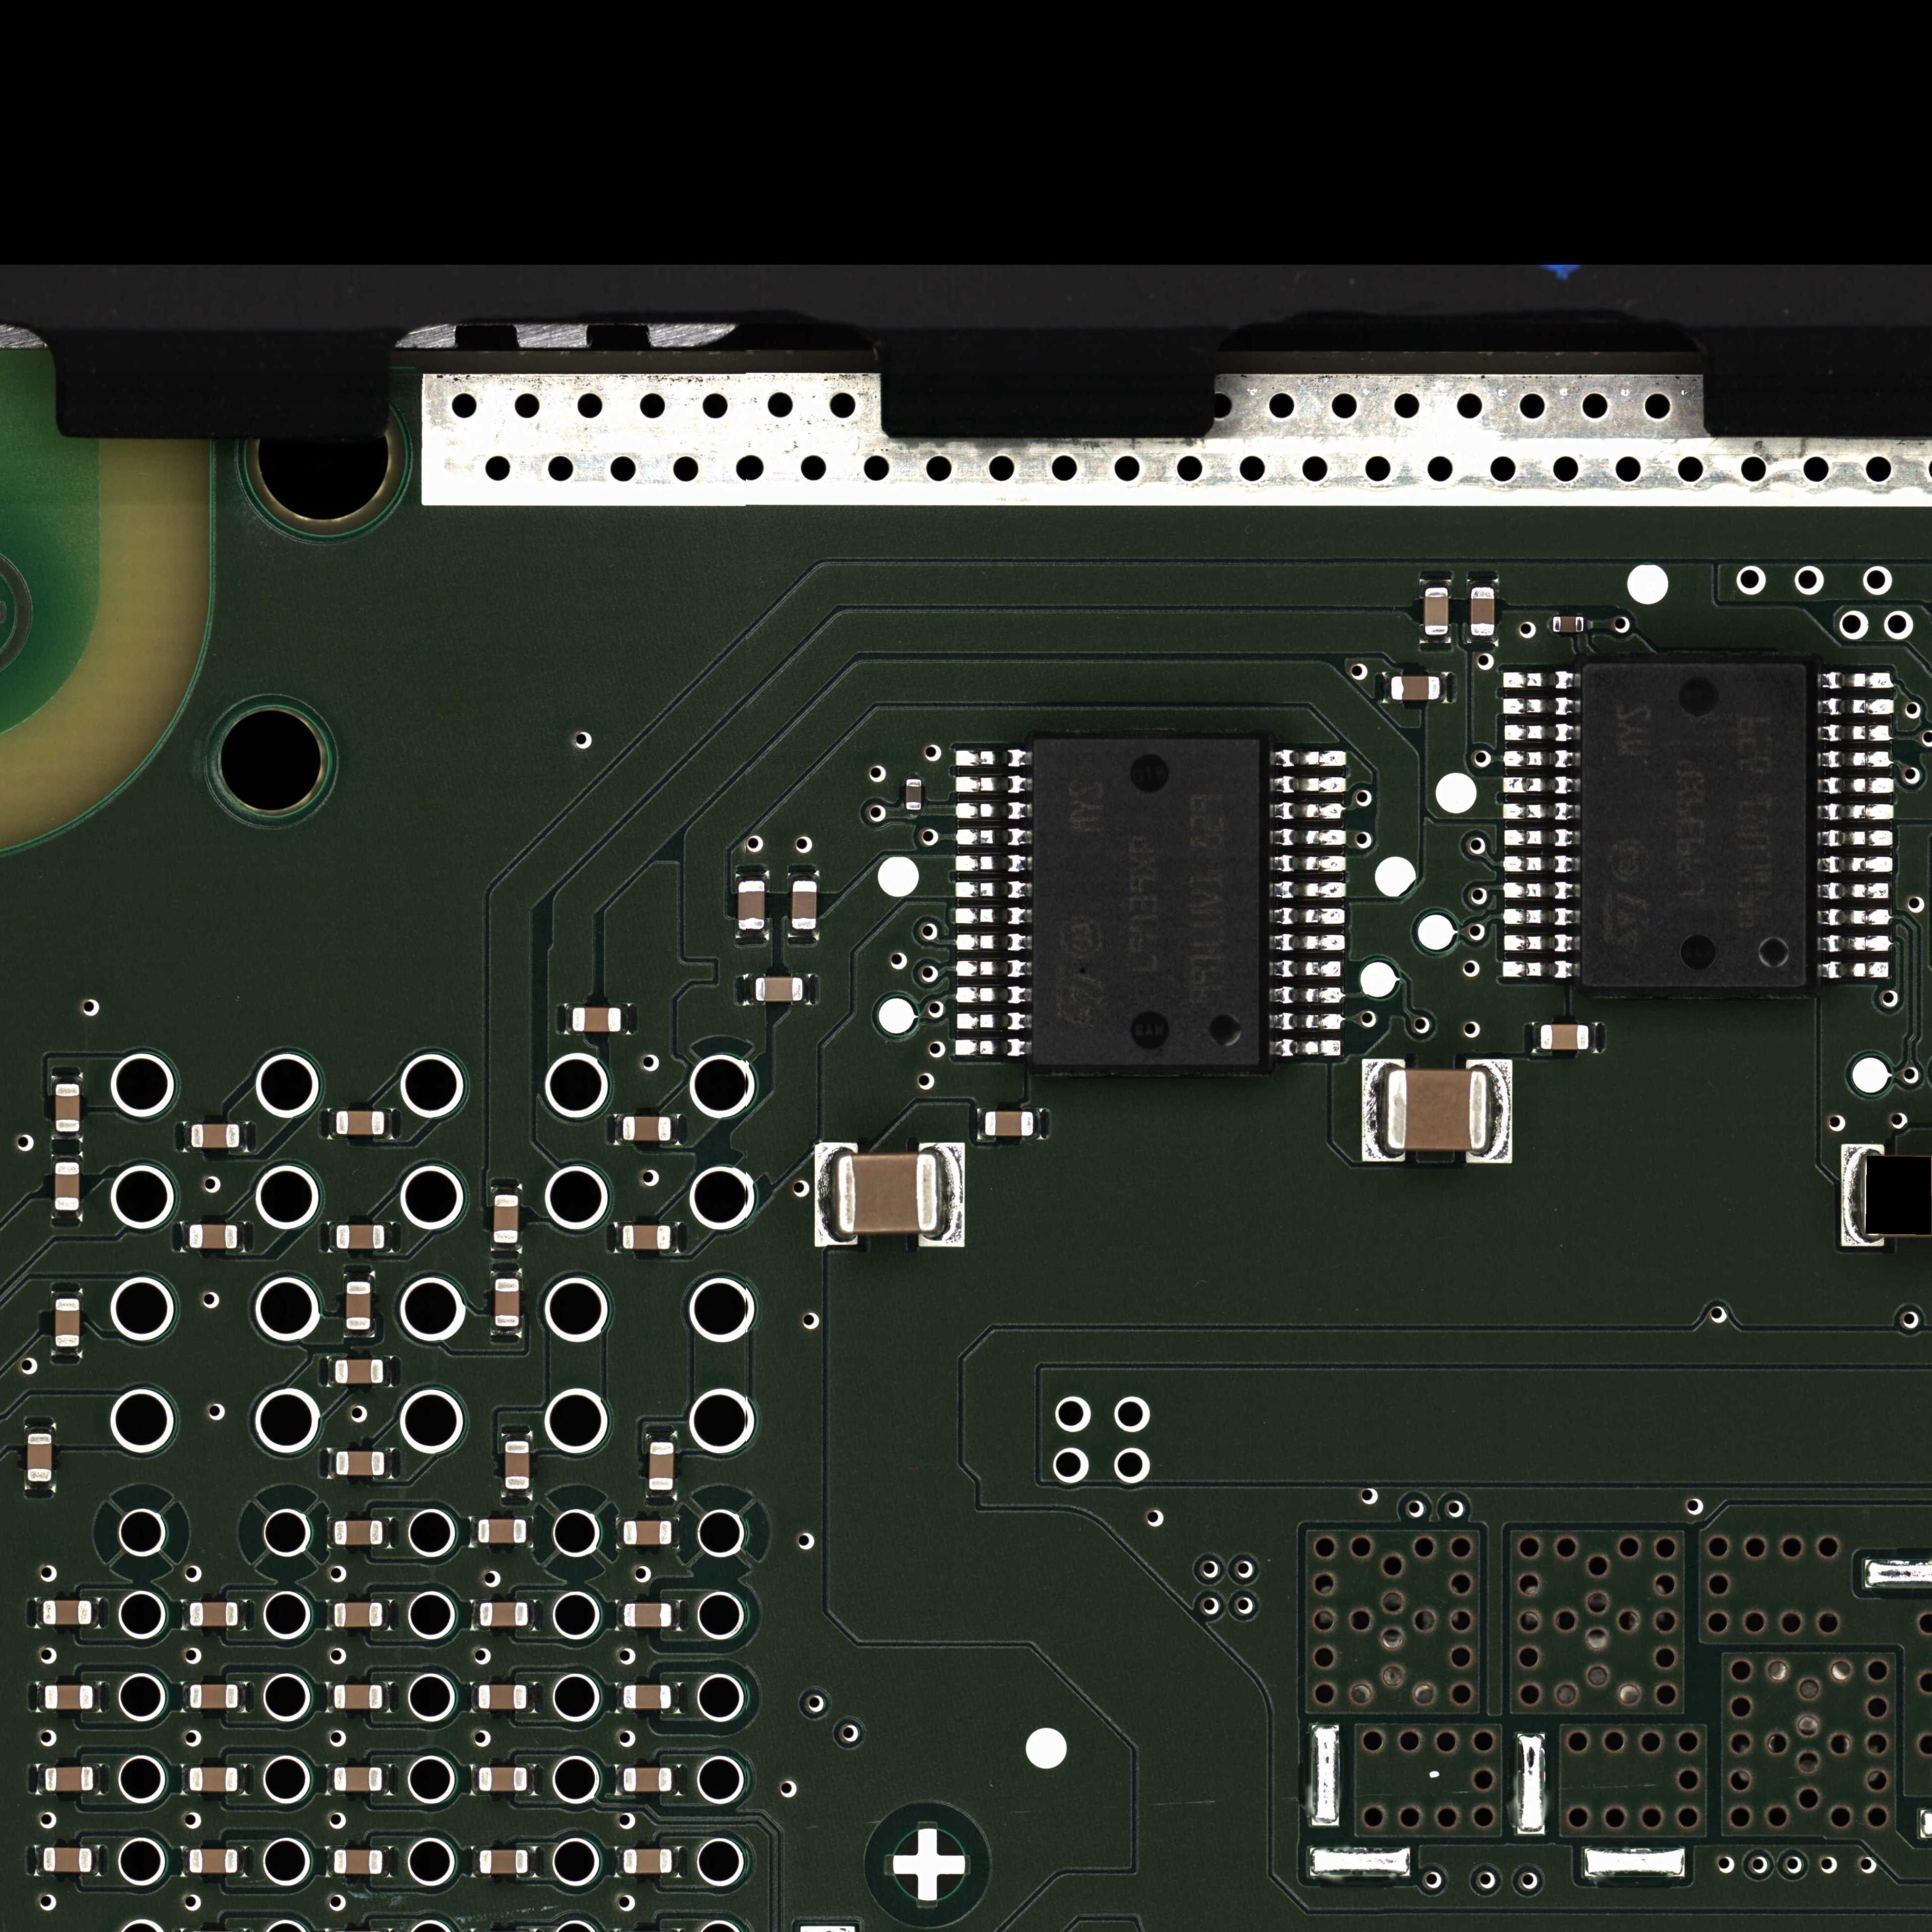Package: (1031, 736, 1260, 1067), (1582, 662, 1806, 989), (837, 1154, 938, 1233), (1387, 1070, 1486, 1150), (738, 881, 764, 931), (345, 1281, 372, 1330), (494, 1194, 518, 1244), (44, 1684, 94, 1709), (1391, 676, 1440, 701), (623, 1767, 672, 1792), (44, 1767, 94, 1792), (478, 1684, 527, 1709), (42, 1599, 92, 1624), (504, 1440, 529, 1490), (55, 1083, 80, 1132), (623, 1849, 672, 1874), (42, 1847, 92, 1872), (189, 1684, 239, 1709), (334, 1359, 384, 1384), (478, 1767, 527, 1792), (336, 1224, 384, 1249), (985, 1111, 1033, 1136), (336, 1451, 384, 1476), (623, 1224, 671, 1249), (495, 1279, 520, 1327), (755, 977, 803, 1001), (625, 1603, 672, 1628), (573, 1007, 621, 1031), (623, 1684, 671, 1709), (189, 1849, 237, 1874), (189, 1224, 237, 1249), (791, 881, 816, 929), (1541, 1024, 1589, 1049), (334, 1684, 382, 1709), (191, 1123, 239, 1148), (334, 1520, 382, 1545), (55, 1299, 80, 1346), (334, 1603, 382, 1628), (649, 1442, 674, 1490), (623, 1116, 671, 1141), (334, 1767, 382, 1792), (189, 1767, 237, 1792), (1470, 587, 1495, 635), (27, 1433, 51, 1481), (55, 1162, 80, 1210), (1424, 587, 1449, 635), (623, 1522, 672, 1545), (189, 1603, 239, 1626), (479, 1851, 527, 1874), (336, 1111, 384, 1134), (479, 1603, 527, 1626), (334, 1851, 382, 1874), (478, 1520, 525, 1543), (906, 778, 922, 810), (1553, 616, 1583, 632)
Solder: (938, 1143, 964, 1247), (1488, 1060, 1513, 1164), (1840, 1145, 1865, 1247), (1362, 1058, 1385, 1162), (816, 1143, 835, 1247), (1502, 671, 1580, 690), (1502, 908, 1580, 927), (954, 1039, 1031, 1058), (1502, 855, 1580, 874), (1502, 934, 1580, 954), (1502, 801, 1580, 821), (1502, 750, 1580, 770), (1502, 828, 1580, 847), (1502, 775, 1580, 794), (1502, 881, 1580, 901), (1269, 985, 1345, 1005), (1504, 697, 1580, 717), (1817, 671, 1893, 690), (955, 775, 1031, 794), (1270, 748, 1346, 768), (955, 748, 1031, 768), (1504, 724, 1580, 743), (955, 932, 1031, 952), (1817, 855, 1893, 874), (955, 985, 1031, 1005), (1270, 828, 1346, 847), (955, 1012, 1031, 1031), (955, 828, 1031, 847), (955, 959, 1031, 978), (1269, 1012, 1343, 1031), (1270, 801, 1345, 821), (1817, 934, 1891, 954), (1817, 908, 1891, 927), (1269, 959, 1343, 978), (1817, 724, 1891, 743), (1817, 881, 1890, 901), (1270, 1039, 1341, 1058), (1817, 699, 1895, 717), (954, 908, 1031, 925), (1819, 961, 1890, 980), (1817, 777, 1895, 794), (1502, 961, 1578, 978), (1269, 934, 1345, 952), (1817, 830, 1893, 847), (1817, 803, 1893, 821), (1270, 777, 1346, 794), (1270, 881, 1346, 899), (1270, 855, 1346, 872), (955, 881, 1031, 899), (955, 801, 1031, 819), (955, 855, 1031, 872), (1270, 908, 1345, 925), (1817, 750, 1891, 768), (787, 929, 819, 939), (745, 973, 755, 1005), (789, 870, 819, 881), (734, 931, 770, 939), (1419, 635, 1453, 644), (736, 872, 770, 881), (501, 1490, 533, 1499), (343, 1272, 375, 1281), (1419, 579, 1451, 587), (51, 1074, 83, 1083), (1467, 579, 1499, 587), (490, 1185, 522, 1194), (326, 1355, 334, 1387), (646, 1490, 678, 1499), (490, 1327, 522, 1336), (490, 1244, 522, 1253), (386, 1108, 395, 1139), (1382, 672, 1391, 704), (646, 1433, 678, 1442), (51, 1348, 83, 1357), (327, 1447, 336, 1479), (327, 1221, 336, 1253), (180, 1221, 189, 1253), (51, 1290, 83, 1299), (671, 1221, 679, 1253), (1532, 1021, 1541, 1053), (327, 1108, 336, 1139), (527, 1764, 536, 1796), (621, 1003, 630, 1035), (803, 973, 812, 1005), (237, 1221, 246, 1253), (492, 1269, 522, 1277), (25, 1483, 55, 1491), (384, 1357, 393, 1387), (51, 1154, 81, 1162), (614, 1115, 623, 1145), (25, 1424, 55, 1433), (34, 1845, 42, 1875), (1440, 672, 1449, 702), (469, 1516, 478, 1546), (182, 1122, 191, 1152), (614, 1223, 623, 1253), (180, 1599, 189, 1629), (471, 1599, 479, 1629), (1589, 1023, 1598, 1053), (92, 1598, 101, 1628), (92, 1845, 101, 1875), (180, 1764, 189, 1794), (672, 1599, 681, 1629), (326, 1599, 334, 1629), (527, 1683, 536, 1713), (326, 1764, 334, 1794), (239, 1599, 248, 1629), (384, 1599, 393, 1629), (672, 1847, 681, 1877), (614, 1847, 623, 1877), (471, 1847, 479, 1877), (180, 1847, 189, 1875), (180, 1683, 189, 1711), (343, 1330, 375, 1338), (1467, 637, 1499, 644), (501, 1433, 533, 1440), (51, 1132, 83, 1139), (386, 1221, 393, 1253), (1035, 1108, 1042, 1139), (564, 1003, 571, 1035), (386, 1447, 393, 1479), (241, 1120, 248, 1152), (672, 1764, 679, 1796), (94, 1681, 101, 1713), (977, 1108, 984, 1139), (616, 1764, 623, 1796), (672, 1115, 679, 1145), (37, 1764, 44, 1794), (672, 1518, 679, 1548), (37, 1683, 44, 1713), (527, 1516, 534, 1546), (35, 1598, 42, 1628), (672, 1683, 679, 1713), (384, 1764, 391, 1794), (51, 1212, 81, 1219), (326, 1847, 333, 1877), (529, 1847, 536, 1877), (384, 1683, 391, 1713), (529, 1599, 536, 1629), (471, 1683, 478, 1713), (326, 1683, 333, 1713), (384, 1847, 391, 1877), (239, 1683, 246, 1713), (327, 1518, 334, 1548), (384, 1518, 391, 1548), (239, 1764, 246, 1794), (616, 1518, 623, 1548), (94, 1764, 101, 1794), (616, 1683, 623, 1713), (616, 1601, 623, 1629), (471, 1766, 478, 1794), (239, 1847, 246, 1875), (1583, 616, 1592, 632), (906, 771, 922, 778), (1546, 616, 1552, 632), (906, 810, 922, 816)
